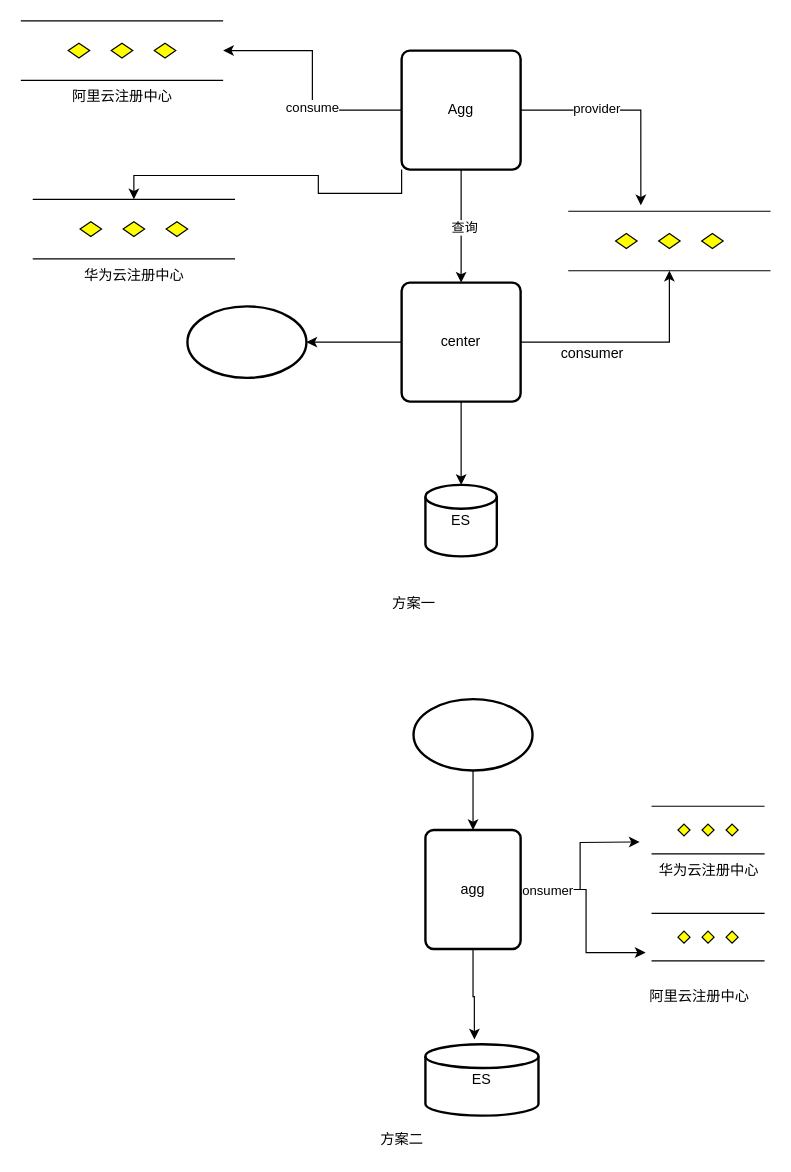
Image size: 791x1172. Some labels were removed from this diagram. The shapes that lost their labels are listed below. From the top down, each one's centre as x and y in pixels, then its label:
At (x=669, y=240): "公有云注册中心".
At (x=246, y=341): "Result".
At (x=472, y=734): "start".
